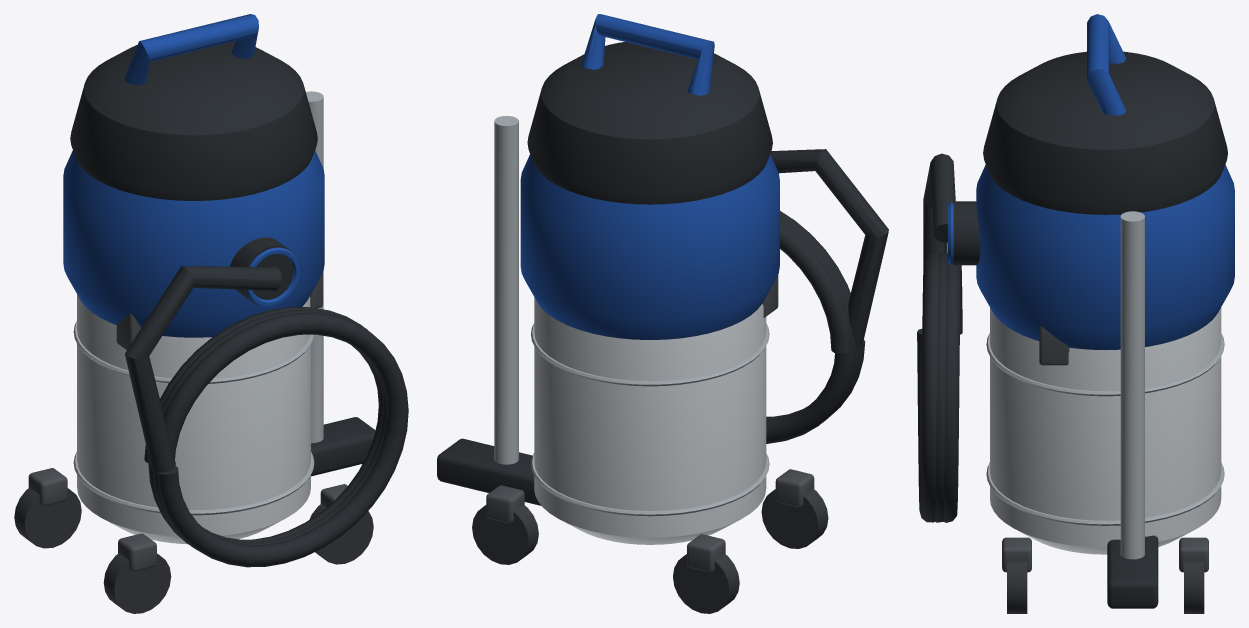
Rendered from water_vacuum.glb.
3 renders of one model, left to right at view 1: azimuth 30°, elevation 25°; view 2: azimuth 150°, elevation 25°; view 3: azimuth 270°, elevation 25°, orthographic.
Parts seen in each view (by area): view 1: water_vacuum; view 2: water_vacuum; view 3: water_vacuum.
Boxes of the visible parts, x1,y1,x2,y2 form: water_vacuum: [14, 14, 408, 613]; water_vacuum: [437, 14, 888, 613]; water_vacuum: [917, 14, 1234, 613].
Size of the model in its own units: 0.5594 by 0.8176 by 0.4523.
